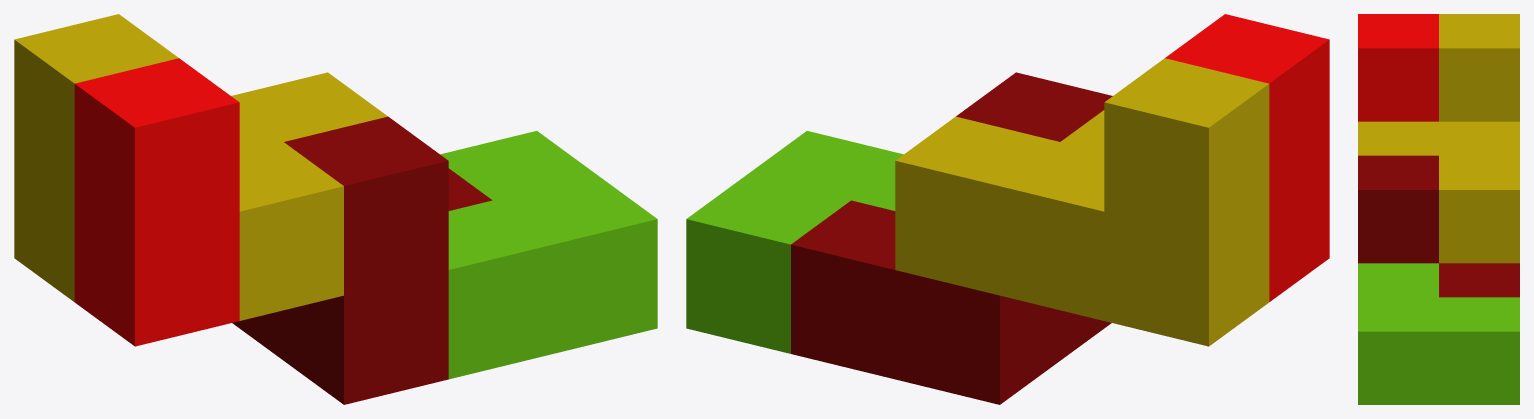
3 renders of one model, left to right at view 1: azimuth 30°, elevation 25°; view 2: azimuth 150°, elevation 25°; view 3: azimuth 270°, elevation 25°, orthographic. The views are drawn at different scales.
Parts seen in each view (by area): view 1: mergedBlocks(Clone); view 2: mergedBlocks(Clone); view 3: mergedBlocks(Clone).
Part boxes in pixels (box(x1,y1,x2,y2)): mergedBlocks(Clone): box(14, 14, 657, 404); mergedBlocks(Clone): box(686, 14, 1329, 404); mergedBlocks(Clone): box(1358, 14, 1519, 404).
Bounding box in the file's own units: 5 × 3 × 2.
Materials: 4 (4 with a texture image).
